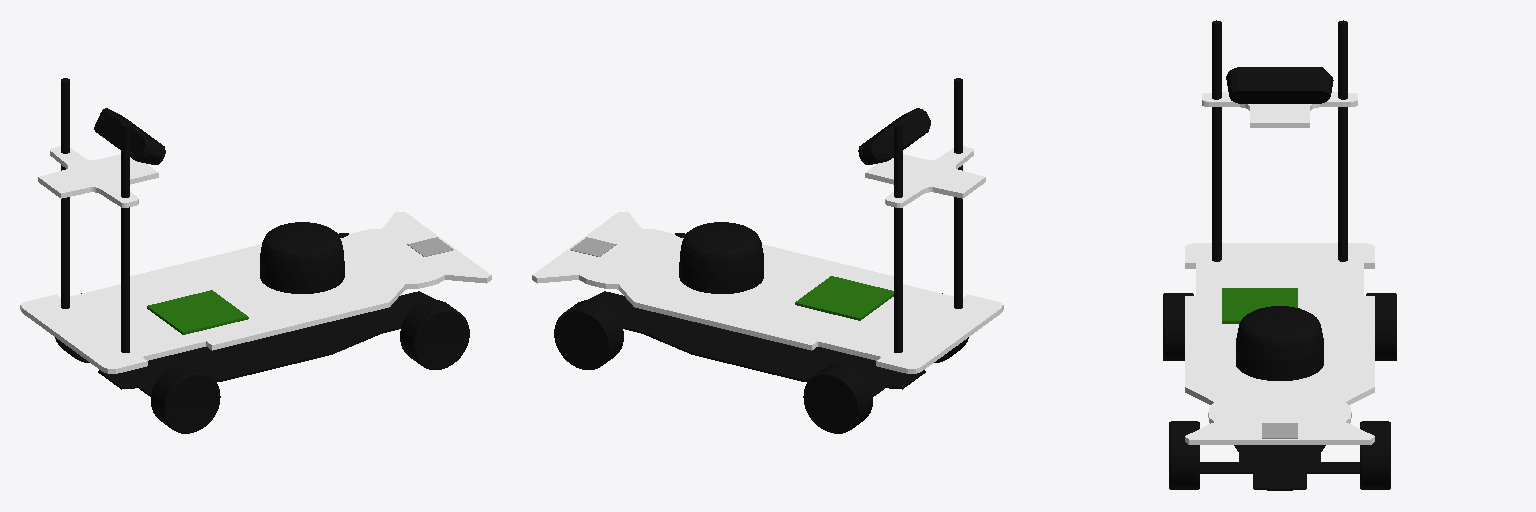
URDF robot description (car):
<?xml version="1.0"?>
<robot name="car">

  <material name="black">
    <color rgba="0.1 0.1 0.1 1"/>
  </material>

  <material name="plastic">
    <color rgba="1 1 1 0.25"/>
  </material>

  <material name="imu">
    <color rgba="0.2 0.5 0.1 1"/>
  </material>

  <material name="grey">
    <color rgba="0.75 0.75 0.75 1"/>
  </material>

  <material name="white">
    <color rgba="0.95 0.95 0.95 1"/>
  </material>

  <link name="base_link">
    <visual>
      <origin rpy="0 0 0" xyz="0 0 0"/>
    </visual>
    <collision>
      <origin rpy="0 0 0" xyz="0 0 0"/> 
    </collision>
  </link> 

  <link name="chasi">
    <visual>
      <origin rpy="0.0 0 0" xyz="0 0 0.01"/>
      <geometry>
        <mesh filename="package://car_description/meshes/chasi.dae"/>
      </geometry>
      <material name="black"/>
    </visual>
    <collision>
      <origin rpy="0.0 0 0" xyz="0 0 0.01"/>
      <geometry>
        <mesh filename="package://car_description/meshes/chasi.dae"/>
      </geometry>
    </collision>
    <inertial>
      <mass value="0.001"/>
      <inertia ixx="0.00000008" ixy="0.0" ixz="0.0" iyy="0.00000008" iyz="0.0" izz="0.00000015"/>
    </inertial>
  </link>

  <link name="board">
    <visual>
      <origin rpy="0.0 0 0" xyz="0 0 0"/>
      <geometry>
        <mesh filename="package://car_description/meshes/board.dae"/>
      </geometry>
      <material name="plastic"/>
    </visual>
    <collision>
      <geometry>
        <mesh filename="package://car_description/meshes/board.dae"/>
      </geometry>
    </collision>
    <inertial>
      <mass value="1.0"/>
      <inertia ixx="0.00213542" ixy="0.0" ixz="0.0" iyy="0.01235417" iyz="0.0" izz="0.01448542"/>
    </inertial>
  </link>

  <link name="camera">
    <visual>
      <origin rpy="-2.0944 0 -1.570796" xyz="0 0 0"/>
      <geometry>
        <mesh filename="package://car_description/meshes/camera.dae"/>
      </geometry>
      <material name="black"/>
    </visual>
    <collision>
      <origin rpy="-2.0944 0 -1.570796" xyz="0 0 0"/>
      <geometry>
        <mesh filename="package://car_description/meshes/camera.dae"/>
      </geometry>
    </collision>
    <inertial>
      <mass value="0.1"/>
      <inertia ixx="0.00001051" ixy="0.0" ixz="0.0" iyy="0.00006385" iyz="0.0" izz="0.00006403"/>
    </inertial>
  </link>

  <link name="camera_board">
    <visual>
      <origin rpy="0.0 0 0" xyz="0 0 0"/>
      <geometry>
        <mesh filename="package://car_description/meshes/camera_board.dae"/>
      </geometry>
      <material name="plastic"/>
    </visual>
    <collision>
      <origin rpy="0.0 0 0" xyz="0 0 0"/>
      <geometry>
        <mesh filename="package://car_description/meshes/camera_board.dae"/>
      </geometry>
    </collision>
    <inertial>
      <origin rpy="0.0 0 0" xyz="0 0 0"/>
      <mass value="0.1"/>
      <inertia ixx="0.00014165" ixy="0.0" ixz="0.0" iyy="0.00006758" iyz="0.0" izz="0.00020865"/>
    </inertial>
  </link>

  <link name="camera_bottom_screw_frame"/>

  <link name="camera_depth_frame"/>

  <link name="laser">
    <visual>
      <origin rpy="0.0 0 0" xyz="0 0 -0.02"/>
      <geometry>
        <mesh filename="package://car_description/meshes/laser.dae"/>
      </geometry>
      <material name="black"/>
    </visual>
    <collision>
       <origin rpy="0.0 0 0" xyz="0 0 -0.02"/>
      <geometry>
        <mesh filename="package://car_description/meshes/laser.dae"/>
      </geometry>
    </collision>
    <inertial>
      <mass value="0.1"/>
      <inertia ixx="0.00005965" ixy="0.0" ixz="0.0" iyy="0.00005759" iyz="0.0" izz="0.00009268"/>
    </inertial>
  </link>

  <link name="wheel_fl">
    <visual>
      <origin rpy="0.0 0 0" xyz="0 0 0"/>
      <geometry>
        <mesh filename="package://car_description/meshes/wheel.dae"/>
      </geometry>
      <material name="black"/>
    </visual>
    <collision>
      <geometry>
        <mesh filename="package://car_description/meshes/wheel.dae"/>
      </geometry>
    </collision>
    <inertial>
      <mass value="0.05"/>
      <inertia ixx="0.00001793" ixy="0.0" ixz="0.0" iyy="0.00002867" iyz="0.0" izz="0.00001813"/>
    </inertial>
  </link>
  <gazebo reference="wheel_fl">
      <minDepth>0.005</minDepth>
      <min_depth>0.005</min_depth>
      <surface>
        <friction>
          <ode>
            <mu>1.0</mu>
            <mu2>1.0</mu2>
            <fdir1>0 0 1</fdir1>
            <slip1>0.0</slip1>
            <slip2>0.0</slip2>
          </ode>
        </friction>
        <contact>
          <ode>
            <soft_cfm>0.000000001</soft_cfm>
            <soft_erp>0.2</soft_erp>
            <kp>1e+10</kp>
            <kd>10</kd>
            <max_vel>0.01</max_vel>
            <min_depth>0.005</min_depth>
          </ode>
        </contact>
      </surface>
  </gazebo>

  <link name="wheel_fr">
    <visual>
      <origin rpy="0.0 0 0" xyz="0 0 0"/>
      <geometry>
        <mesh filename="package://car_description/meshes/wheel.dae"/>
      </geometry>
      <material name="black"/>
    </visual>
    <collision>
      <geometry>
        <mesh filename="package://car_description/meshes/wheel.dae"/>
      </geometry>
    </collision>
    <inertial>
      <mass value="0.05"/>
      <inertia ixx="0.00001793" ixy="0.0" ixz="0.0" iyy="0.00002867" iyz="0.0" izz="0.00001813"/>
    </inertial>
  </link>
  <gazebo reference="wheel_fr">
      <minDepth>0.005</minDepth>
      <min_depth>0.005</min_depth>
      <surface>
        <friction>
          <ode>
            <mu>1.0</mu>
            <mu2>1.0</mu2>
            <fdir1>0 0 1</fdir1>
            <slip1>0.0</slip1>
            <slip2>0.0</slip2>
          </ode>
        </friction>
        <contact>
          <ode>
            <soft_cfm>0.000000001</soft_cfm>
            <soft_erp>0.2</soft_erp>
            <kp>1e+10</kp>
            <kd>10</kd>
            <max_vel>0.01</max_vel>
            <min_depth>0.005</min_depth>
          </ode>
        </contact>
      </surface>
  </gazebo>

  <link name="wheel_bl">
    <visual>
      <origin rpy="0.0 0 0" xyz="0 0 0"/>
      <geometry>
        <mesh filename="package://car_description/meshes/wheel.dae"/>
      </geometry>
      <material name="black"/>
    </visual>
    <collision>
      <geometry>
        <mesh filename="package://car_description/meshes/wheel.dae"/>
      </geometry>
    </collision>
    <inertial>
      <mass value="0.05"/>
      <inertia ixx="0.00001793" ixy="0.0" ixz="0.0" iyy="0.00002867" iyz="0.0" izz="0.00001813"/>
    </inertial>
  </link>
  <gazebo reference="wheel_bl">
      <minDepth>0.005</minDepth>
      <min_depth>0.005</min_depth>
      <surface>
        <friction>
          <ode>
            <mu>1.0</mu>
            <mu2>1.0</mu2>
            <fdir1>0 0 1</fdir1>
            <slip1>0.0</slip1>
            <slip2>0.0</slip2>
          </ode>
        </friction>
        <contact>
          <ode>
            <soft_cfm>0.000000001</soft_cfm>
            <soft_erp>0.2</soft_erp>
            <kp>1e+10</kp>
            <kd>10</kd>
            <max_vel>0.01</max_vel>
            <min_depth>0.005</min_depth>
          </ode>
        </contact>
      </surface>
  </gazebo>

  <link name="wheel_br">
    <visual>
      <origin rpy="0.0 0 0" xyz="0 0 0"/>
      <geometry>
        <mesh filename="package://car_description/meshes/wheel.dae"/>
      </geometry>
      <material name="black"/>
    </visual>
    <collision>
      <geometry>
        <mesh filename="package://car_description/meshes/wheel.dae"/>
      </geometry>
    </collision>
    <inertial>
      <mass value="0.05"/>
      <inertia ixx="0.00001793" ixy="0.0" ixz="0.0" iyy="0.00002867" iyz="0.0" izz="0.00001813"/>
    </inertial>
  </link>
  <gazebo reference="wheel_br">
      <minDepth>0.005</minDepth>
      <min_depth>0.005</min_depth>
      <surface>
        <friction>
          <ode>
            <mu>1.0</mu>
            <mu2>1.0</mu2>
            <fdir1>0 0 1</fdir1>
            <slip1>0.0</slip1>
            <slip2>0.0</slip2>
          </ode>
        </friction>
        <contact>
          <ode>
            <soft_cfm>0.000000001</soft_cfm>
            <soft_erp>0.2</soft_erp>
            <kp>1e+10</kp>
            <kd>10</kd>
            <max_vel>0.01</max_vel>
            <min_depth>0.005</min_depth>
          </ode>
        </contact>
      </surface>
  </gazebo>

  <link name="axis_fl">
    <visual>
      <origin rpy="0.0 0 0" xyz="0 0 0"/>
      <geometry>
        <box size="0.001 0.001 0.001"/>
      </geometry>
      <material name="black"/>
    </visual>
    <collision>
      <geometry>
        <box size="0.001 0.001 0.001"/>
      </geometry>
    </collision>
    <inertial>
      <mass value="0.1"/>
      <inertia ixx="0.00000002" ixy="0.0" ixz="0.0" iyy="0.00000002" iyz="0.0" izz="0.00000002"/>
    </inertial>
  </link>

  <link name="axis_fr">
    <visual>
      <origin rpy="0.0 0 0" xyz="0 0 0"/>
      <geometry>
        <box size="0.001 0.001 0.001"/>
      </geometry>
      <material name="black"/>
    </visual>
    <collision>
      <geometry>
        <box size="0.001 0.001 0.001"/>
      </geometry>
    </collision>
    <inertial>
      <mass value="0.1"/>
      <inertia ixx="0.00000002" ixy="0.0" ixz="0.0" iyy="0.00000002" iyz="0.0" izz="0.00000002"/>
    </inertial>
  </link>

  <link name="imu">
    <visual>
      <geometry>
        <box size="0.066 0.064 0.01"/>
      </geometry>
      <origin rpy="0 0 0" xyz="0 0 0"/> 
      <material name="imu"/>     
    </visual>
    <collision>
      <geometry>
        <box size="0.066 0.064 0.01"/>
      </geometry>
    </collision>
    <inertial>
      <mass value="0.2"/>
      <inertia ixx="0.00006993" ixy="0.0" ixz="0.0" iyy="0.00007427" iyz="0.0" izz="0.00014087"/>
    </inertial>
  </link>

  <link name="marker">
    <visual>
      <geometry>
        <mesh filename="package://car_description/meshes/marker.dae"/>
      </geometry>
      <origin rpy="0 0 1.5708" xyz="0 0 0"/>
          
    </visual>
    <collision>
      <geometry>
        <box size="0.03 0.03 0.000001"/>
      </geometry>
    </collision>
    <inertial>
      <mass value="0.001"/>
      <inertia ixx="0.00000008" ixy="0.0" ixz="0.0" iyy="0.00000008" iyz="0.0" izz="0.00000015"/>
    </inertial>
  </link>

  <link name="support_l">
    <visual>
      <geometry>
        <cylinder length="0.22" radius="0.004"/>
      </geometry>
      <origin rpy="0 0 0" xyz="0 0 0"/>
      <material name="black"/>      
    </visual>
    <collision>
      <geometry>
        <cylinder length="0.22" radius="0.004"/>
      </geometry>
    </collision>
    <inertial>
      <mass value="0.001"/>
      <inertia ixx="0.00000404" ixy="0.0" ixz="0.0" iyy="0.00000404" iyz="0.0" izz="0.00000001"/>
    </inertial>
  </link>

  <link name="support_r">
    <visual>
      <geometry>
        <cylinder length="0.22" radius="0.004"/>
      </geometry>
      <origin rpy="0 0 0" xyz="0 0 0"/>
      <material name="black"/>      
    </visual>
    <collision>
      <geometry>
        <cylinder length="0.22" radius="0.004"/>
      </geometry>
    </collision>
    <inertial>
      <mass value="0.001"/>
      <inertia ixx="0.00000404" ixy="0.0" ixz="0.0" iyy="0.00000404" iyz="0.0" izz="0.00000001"/>
    </inertial>
  </link>

  <link name="bno055">
  </link>

  <joint name="joint_board_to_bno055" type="fixed">
      <parent link="board"/>
      <child link="bno055"/>
      <origin xyz="0.235 0.0 0.023" rpy="0 0 1.5708"/>
  </joint>

  <joint name="base_chasi" type="fixed">
    <parent link="base_link"/>
    <child link="chasi"/>
    <origin xyz="0.135 0 0"/>
  </joint>

  <joint name="chasi_board" type="fixed">
    <parent link="chasi"/>
    <child link="board"/>
    <origin xyz="-0.018 0 0.06"/>
  </joint>

  <joint name="board_cameraboard" type="fixed">
    <parent link="board"/>
    <child link="camera_board"/>
    <origin xyz="-0.160 0 0.15"/>
  </joint>

  <joint name="camera_cameraboard" type="fixed">
    <parent link="camera_board"/>
    <child link="camera"/>
    <origin xyz="0.035 0 0.03"/>
  </joint>

  <joint name="camera_depth" type="fixed">
    <parent link="camera"/>
    <child link="camera_depth_frame"/>
    <origin rpy="-1.57079632679 0 -1.57079632679"/>
  </joint>

  <joint name="camera_joint" type="fixed">
    <origin rpy="0 0 0" xyz="0.035 0 0.03"/>
    <parent link="camera_board"/>
    <child link="camera_bottom_screw_frame"/>
  </joint>

  <joint name="board_laster" type="fixed">
    <parent link="board"/>
    <child link="laser"/>
    <origin rpy="0 0 3.14159" xyz="0.05 0 0.025"/>
  </joint>

    <joint name="board_imu" type="fixed">
    <parent link="board"/>
    <child link="imu"/>
    <origin xyz="-0.06559 -0.017 0"/>
  </joint>

  <joint name="board_marker" type="fixed">
    <parent link="board"/>
    <child link="marker"/>
    <origin xyz="0.18 0 0.0025"/>
  </joint>

  <joint name="frontwheel_steering_left" type="revolute">
    <axis xyz="0 0 1"/>
    <limit effort="1000.0" lower="-0.55" upper="0.55" velocity="2"/>
    <parent link="chasi"/>
    <child link="axis_fl"/>
    <origin xyz="0.12 0.08 0.02"/>
  </joint>

  <joint name="frontwheel_steering_right" type="revolute">
    <axis xyz="0 0 1"/>
    <limit effort="1000.0" lower="-0.55" upper="0.55" velocity="2"/>
    <parent link="chasi"/>
    <child link="axis_fr"/>
    <origin xyz="0.12 -0.08 0.02"/>
  </joint>

  <joint name="frontwheel_left" type="revolute">
    <axis xyz="0 1 0"/>
    <anchor xyz="0 0 0"/>
    <parent link="axis_fl"/>
    <child link="wheel_fl"/>
    <origin xyz="0 0 0"/>
    <limit effort="0.1" lower="-1000000000000.0" upper="1000000000000.0" velocity="124"/>
  </joint>

  <joint name="frontwheel_right" type="revolute">
    <axis xyz="0 1 0"/>
    <parent link="axis_fr"/>
    <child link="wheel_fr"/>
    <origin xyz="0 0 0"/>
    <limit effort="0.1" lower="-1000000000000.0" upper="1000000000000.0" velocity="124"/>
  </joint>

   <joint name="rearwheel_left" type="revolute">
    <axis xyz="0 1 0"/>
    <parent link="chasi"/>
    <child link="wheel_bl"/>
    <origin xyz="-0.135 0.085 0.02"/>
    <limit effort="0.1" lower="-1000000000000.0" upper="1000000000000.0" velocity="124"/>
  </joint>

  <joint name="rearwheel_right" type="revolute">
    <axis xyz="0 1 0"/>
    <parent link="chasi"/>
    <child link="wheel_br"/>
    <origin xyz="-0.135 -0.085 0.02"/>
    <limit effort="0.1" lower="-1000000000000.0" upper="1000000000000.0" velocity="124"/>
  </joint>

  <joint name="board_support_l" type="fixed">
    <parent link="board"/>
    <child link="support_l"/>
    <origin xyz="-0.159000 0.053000 0.112000"/>
  </joint>

  <joint name="board_support_r" type="fixed">
    <parent link="board"/>
    <child link="support_r"/>
    <origin xyz="-0.159000 -0.053000 0.112000"/>
  </joint>

  <transmission name="steering_front_left_wheel">
    <type>transmission_interface/SimpleTransmission</type>
    <joint name="frontwheel_steering_left">
      <hardwareInterface>hardware_interface/EffortJointInterface</hardwareInterface>
    </joint>
    <actuator name="front_left_steering_motor">
      <hardwareInterface>hardware_interface/EffortJointInterface</hardwareInterface>
      <mechanicalReduction>1</mechanicalReduction>
    </actuator>
  </transmission>

  <transmission name="steering_front_right_wheel">
    <type>transmission_interface/SimpleTransmission</type>
    <joint name="frontwheel_steering_right">
      <hardwareInterface>hardware_interface/EffortJointInterface</hardwareInterface>
    </joint>
    <actuator name="front_right_steering_motor">
      <hardwareInterface>hardware_interface/EffortJointInterface</hardwareInterface>
      <mechanicalReduction>1</mechanicalReduction>
    </actuator>
  </transmission>

  <transmission name="tran_front_left_wheel">
    <type>transmission_interface/SimpleTransmission</type>
    <joint name="frontwheel_left">
      <hardwareInterface>hardware_interface/EffortJointInterface</hardwareInterface>
    </joint>
    <actuator name="front_left_wheel_motor">
      <hardwareInterface>hardware_interface/EffortJointInterface</hardwareInterface>
      <mechanicalReduction>1</mechanicalReduction>
    </actuator>
  </transmission>

  <transmission name="tran_front_right_wheel">
    <type>transmission_interface/SimpleTransmission</type>
    <joint name="frontwheel_right">
      <hardwareInterface>hardware_interface/EffortJointInterface</hardwareInterface>
    </joint>
    <actuator name="front_right_wheel_motor">
      <hardwareInterface>hardware_interface/EffortJointInterface</hardwareInterface>
      <mechanicalReduction>1</mechanicalReduction>
    </actuator>
  </transmission>

  <transmission name="tran_rear_left">
    <type>transmission_interface/SimpleTransmission</type>
    <joint name="rearwheel_left">
      <hardwareInterface>hardware_interface/EffortJointInterface</hardwareInterface>
    </joint>
    <actuator name="rear_left_motor">
      <hardwareInterface>hardware_interface/EffortJointInterface</hardwareInterface>
      <mechanicalReduction>1</mechanicalReduction>
    </actuator>
  </transmission>

  <transmission name="tran_rear_right">
    <type>transmission_interface/SimpleTransmission</type>
    <joint name="rearwheel_right">
      <hardwareInterface>hardware_interface/EffortJointInterface</hardwareInterface>
    </joint>
    <actuator name="rear_right_motor">
      <hardwareInterface>hardware_interface/EffortJointInterface</hardwareInterface>
      <mechanicalReduction>1</mechanicalReduction>
    </actuator>
  </transmission>

  <gazebo reference="rearwheel_left">
    <implicitSpringDamper>true</implicitSpringDamper>
  </gazebo>
  <gazebo reference="rearwheel_right">
    <implicitSpringDamper>true</implicitSpringDamper>
  </gazebo>
  <gazebo reference="frontwheel_right">
    <implicitSpringDamper>true</implicitSpringDamper>
  </gazebo>
  <gazebo reference="frontwheel_left">
    <implicitSpringDamper>true</implicitSpringDamper>
  </gazebo>
  <gazebo reference="frontwheel_steering_right">
    <implicitSpringDamper>true</implicitSpringDamper>
  </gazebo>
  <gazebo reference="frontwheel_steering_left">
    <implicitSpringDamper>true</implicitSpringDamper>
  </gazebo>
  <gazebo>
    <plugin filename="libgazebo_ros_control.so" name="gazebo_ros_control">
      <robotNamespace>model_car</robotNamespace>
    </plugin>
  </gazebo>

  <gazebo>
    <plugin name="model_car_ground_truth" filename="libgazebo_ros_p3d.so">
      <frameName>map</frameName>
      <bodyName>base_link</bodyName>
      <topicName>odom_ground_truth</topicName>
      <updateRate>30.0</updateRate>
    </plugin>
  </gazebo>

  <gazebo>
    <plugin filename="libhector_gazebo_ros_imu.so" name="autominy_imu">
      <updateRate>100.0</updateRate>
      <robotNamespace>/</robotNamespace>
      <bodyName>imu</bodyName>
      <frameId>imu</frameId>
      <topicName>sensors/imu</topicName>
      <accelOffset>0 0 0</accelOffset>
      <accelDrift>0.5 0.5 0.5</accelDrift>
      <accelGaussianNoise>0.15 0.15 0.1</accelGaussianNoise>
      <rateOffset>0 0 0</rateOffset>
      <rateDrift>0.0 0.0 0.0</rateDrift>
      <rateGaussianNoise>0.005 0.005 0.0015</rateGaussianNoise>
      <headingOffset>0</headingOffset>
      <headingDrift>0.1</headingDrift>
      <headingGaussianNoise>0.05</headingGaussianNoise>
    </plugin>
  </gazebo>

  <gazebo reference="camera">
    <sensor type="depth" name="camera1">       
      <always_on>1</always_on>
      <visualize>true</visualize>
      <update_rate>30.0</update_rate>
      <camera>
        <pose>0 0 0 0 0.30 0</pose>
        <horizontal_fov>1.59174</horizontal_fov>  
        <image>
          <width>640</width>
          <height>480</height>
          <format>L8</format>
        </image>
        <depth_camera>
        </depth_camera>
        <clip>
          <near>0.01</near>
          <far>50.0</far>
        </clip>
        <noise>
          <type>gaussian</type>
          <mean>0.0</mean>
          <stddev>0.007</stddev>
        </noise>
      </camera>
      <plugin name="camera_controller" filename="libgazebo_ros_openni_kinect.so">
        <alwaysOn>true</alwaysOn>
        <updateRate>30.0</updateRate>
        <cameraName>sensors/camera</cameraName>
        <frameName>camera_depth_optical_frame</frameName>                   
        <imageTopicName>infra1/image_rect_raw</imageTopicName>
        <cameraInfoTopicName>infra1/camera_info</cameraInfoTopicName>
        <depthImageTopicName>depth/image_rect_raw</depthImageTopicName>
        <pointCloudTopicName>depth/points</pointCloudTopicName>
        <depthImageCameraInfoTopicName>depth/camera_info</depthImageCameraInfoTopicName>            
        <pointCloudCutoff>0.4</pointCloudCutoff>                
        <hackBaseline>0.007</hackBaseline>
        <CxPrime>0.0</CxPrime>
        <Cx>0.0</Cx>
        <Cy>0.0</Cy>
        <focalLength>0.0</focalLength>
        <noise>
          <type>gaussian</type>
          <mean>0.0</mean>
          <stddev>0.01</stddev>
        </noise>
      </plugin>
    </sensor>
  </gazebo>

  <gazebo reference="camera">
    <sensor type="camera" name="camera2">
      <update_rate>30.0</update_rate>
      <camera>
        <pose>0 0 0 0 0.30 0</pose>
        <horizontal_fov>0.7417649</horizontal_fov>
        <image>
          <width>640</width>
          <height>480</height>
          <format>R8G8B8</format>
        </image>
        <clip>
          <near>0.01</near>
          <far>50.0</far>
        </clip>
        <noise>
          <type>gaussian</type>
          <mean>0.0</mean>
          <stddev>0.01</stddev>
        </noise>
      </camera>
      <plugin name="camera_controller2" filename="libgazebo_ros_camera.so">
        <alwaysOn>true</alwaysOn>
        <updateRate>0.0</updateRate>
        <cameraName>sensors/camera/color</cameraName>
        <imageTopicName>image_rect_color</imageTopicName>
        <cameraInfoTopicName>camera_info</cameraInfoTopicName>
        <frameName>camera</frameName>
        <hackBaseline>0.0193</hackBaseline>
        <distortionK1>0.0</distortionK1>
        <distortionK2>0.0</distortionK2>
        <distortionK3>0.0</distortionK3>
        <distortionT1>0.0</distortionT1>
        <distortionT2>0.0</distortionT2>
      </plugin>
    </sensor>
  </gazebo>

  <gazebo reference="laser">
    <sensor type="ray" name="rp_lidar_sensor">
      <pose>0 0 0 0 0 0</pose>
      <visualize>false</visualize>
      <update_rate>10</update_rate>
      <ray>
        <scan>
          <horizontal>
            <samples>360</samples>
            <min_angle>-3.14159</min_angle>
            <max_angle>3.14159</max_angle>
          </horizontal>
        </scan>
        <range>
          <min>0.15</min>
          <max>6.0</max>
          <resolution>0.05</resolution>
        </range>
        <noise>
          <type>gaussian</type>
          <mean>0.0</mean>
          <stddev>0.01</stddev>
        </noise>
      </ray>
      <plugin name="gazebo_ros_head_hokuyo_controller" filename="libgazebo_ros_laser.so">
        <topicName>/sensors/rplidar/scan</topicName>
        <frameName>laser</frameName>
      </plugin>
    </sensor>
  </gazebo>
  <gazebo reference="wheel_fl">
    <mu1>1.34</mu1>
    <mu2>1.34</mu2>  
  </gazebo>
  <gazebo reference="wheel_fr">
    <mu1>1.34</mu1>
    <mu2>1.34</mu2>  
  </gazebo>
  <gazebo reference="wheel_br">
    <mu1>1.34</mu1>
    <mu2>1.34</mu2>  
  </gazebo>
  <gazebo reference="wheel_bl">
    <mu1>1.34</mu1>
    <mu2>1.34</mu2>  
  </gazebo>

  <gazebo reference="support_r">
    <material>Gazebo/Black</material>
  </gazebo>

  <gazebo reference="support_l">
    <material>Gazebo/Black</material>
  </gazebo>
</robot>

--- What the picture shows (computed from the rendered views, not written in the file) ---
The picture shows the robot from 3 angles, left to right: view 1: azimuth 30°, elevation 25°; view 2: azimuth 150°, elevation 25°; view 3: azimuth 270°, elevation 25°; orthographic projection.
Model car with 19 links and 18 joints (6 revolute, 12 fixed), rooted at base_link, posed all joints at 0.
Links seen in each view (by area): view 1: board, chasi, laser, wheel_fr, wheel_br, camera_board, imu, support_r, camera, support_l; view 2: board, chasi, laser, wheel_fl, wheel_bl, camera_board, imu, support_l, camera, support_r; view 3: board, laser, chasi, camera, support_l, support_r, camera_board, wheel_fl, wheel_fr, imu, wheel_bl, wheel_br (+1 smaller).
Boxes of the visible links, <box> form: board: <box>20,212,491,373</box>; chasi: <box>98,291,435,396</box>; laser: <box>260,222,344,293</box>; wheel_fr: <box>400,300,469,369</box>; wheel_br: <box>151,363,220,433</box>; camera_board: <box>38,146,158,207</box>; imu: <box>147,290,248,334</box>; support_r: <box>121,122,129,352</box>; camera: <box>94,108,165,164</box>; support_l: <box>61,78,69,308</box>; board: <box>532,212,1003,373</box>; chasi: <box>588,291,925,396</box>; laser: <box>679,222,763,293</box>; wheel_fl: <box>554,300,623,369</box>; wheel_bl: <box>803,363,872,433</box>; camera_board: <box>865,146,985,207</box>; imu: <box>795,276,893,320</box>; support_l: <box>894,122,902,352</box>; camera: <box>858,108,930,164</box>; support_r: <box>954,78,962,308</box>; board: <box>1185,243,1374,444</box>; laser: <box>1236,306,1323,380</box>; chasi: <box>1200,445,1359,490</box>; camera: <box>1226,67,1333,103</box>; support_l: <box>1338,20,1347,261</box>; support_r: <box>1212,20,1221,261</box>; camera_board: <box>1202,92,1357,127</box>; wheel_fl: <box>1360,421,1390,489</box>; wheel_fr: <box>1169,421,1199,489</box>; imu: <box>1222,288,1297,323</box>; wheel_bl: <box>1366,293,1396,360</box>; wheel_br: <box>1163,293,1193,360</box>.
Size in the robot's own frame: 0.4031 by 0.196 by 0.2908 metres.
10 mesh visuals loaded from 7 distinct referenced files (7 Collada DAE).
